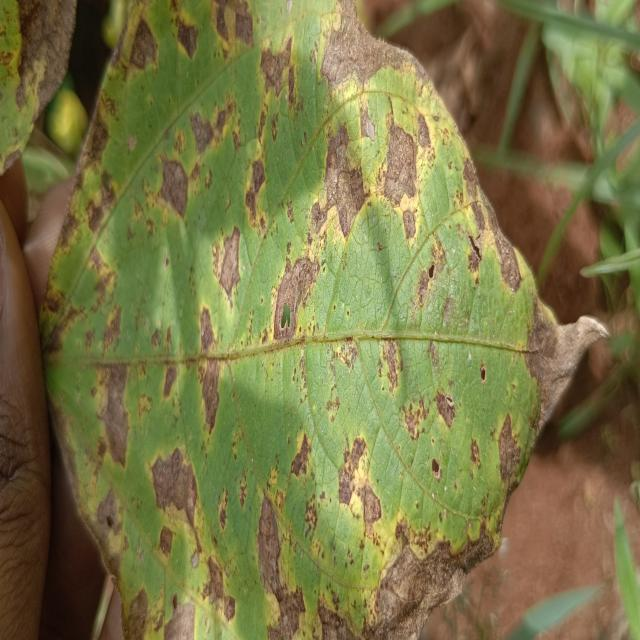Black gram_leaf spot: (35, 0, 614, 640)
